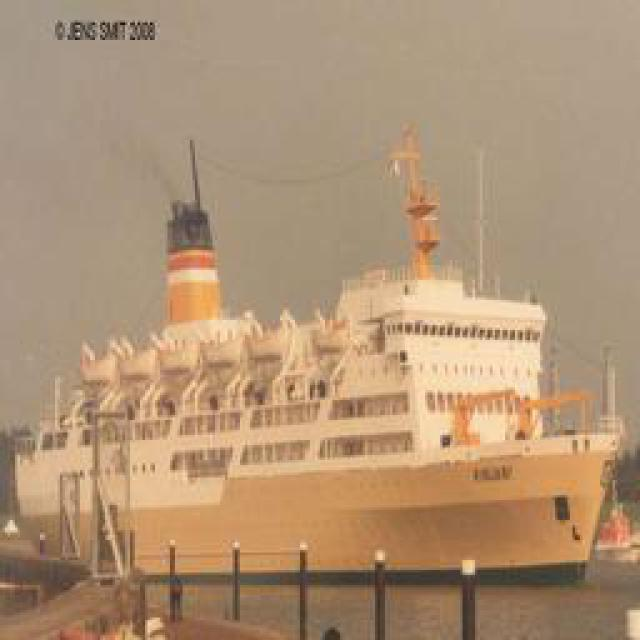Ship: (23, 282, 621, 592)
